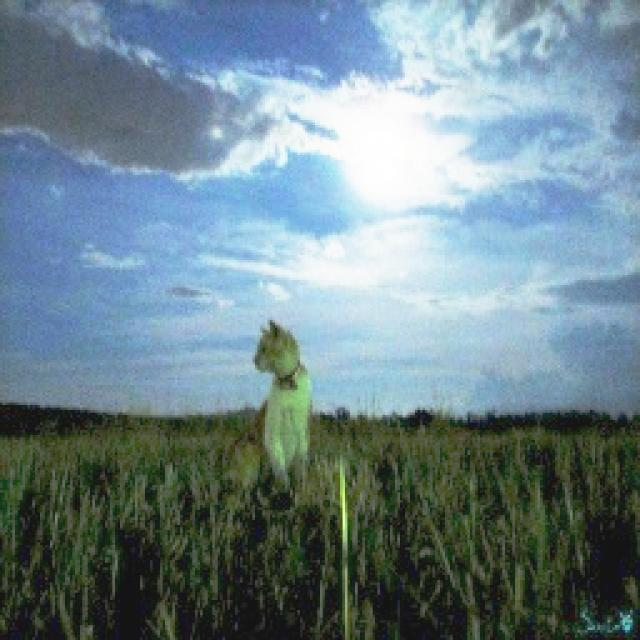cat: (195, 306, 341, 522)
